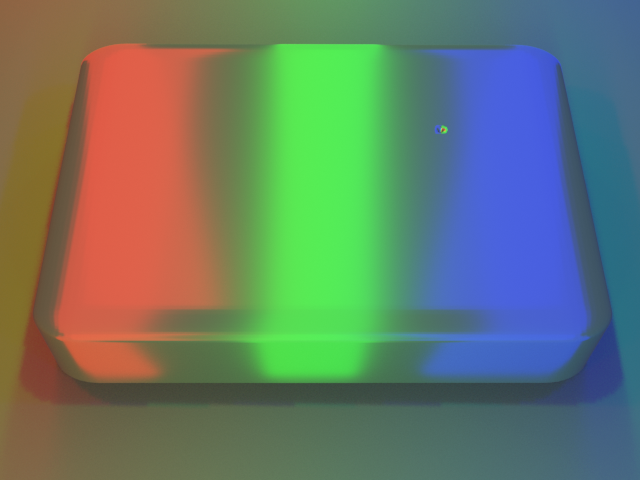dent: (437, 104, 470, 143)
